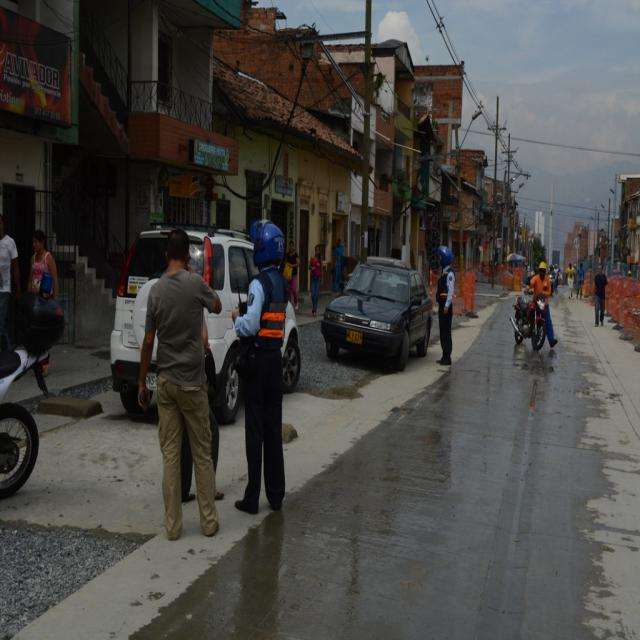car: (320, 254, 435, 368)
